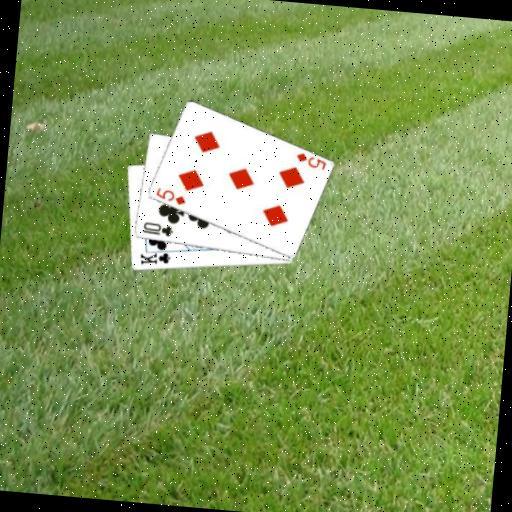10C: (139, 219, 175, 239)
5D: (292, 149, 329, 172), (152, 185, 188, 208)
KC: (137, 244, 175, 269)
